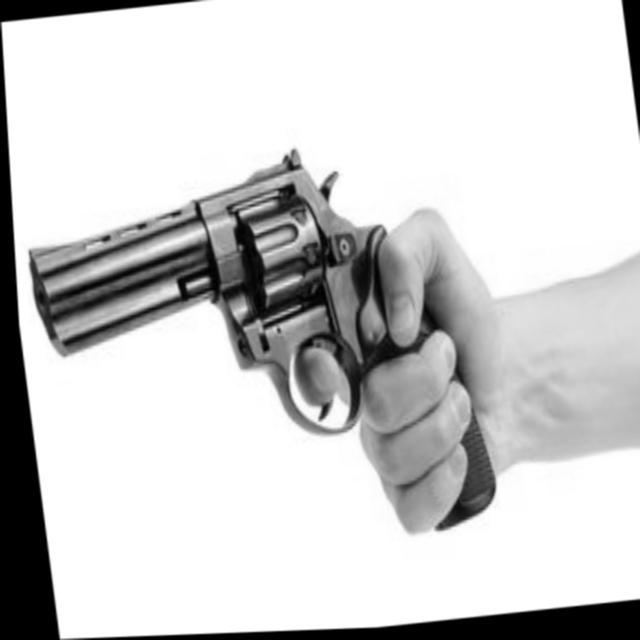weapon: (6, 121, 502, 588)
